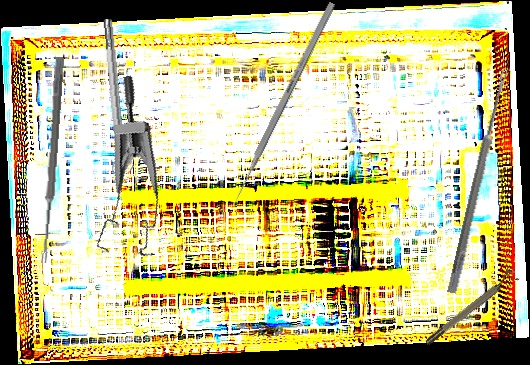Fixation Ring: (420, 266, 521, 348), (96, 17, 135, 175)
Pusher: (227, 1, 336, 213)
Speculum: (49, 74, 189, 271)
Surgical Spoon: (447, 66, 510, 295), (39, 56, 65, 264)
